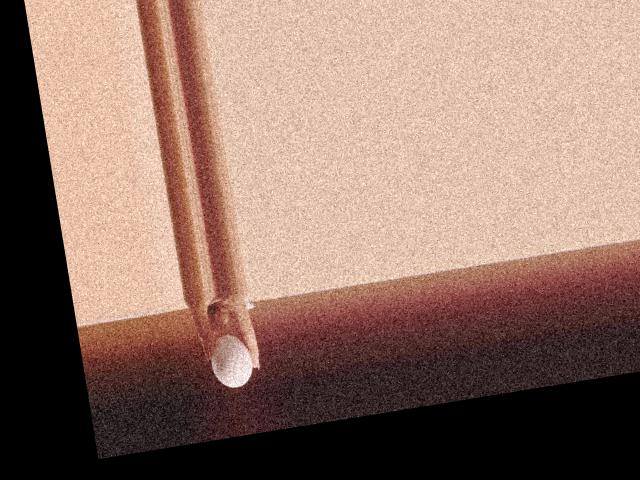egg: (206, 330, 255, 390)
